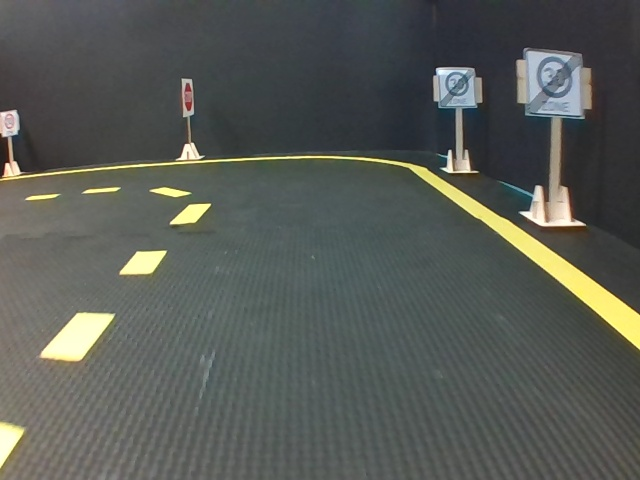30: (1, 112, 17, 136)
no30: (526, 50, 581, 118), (437, 68, 475, 105)
stop: (182, 77, 193, 115)
